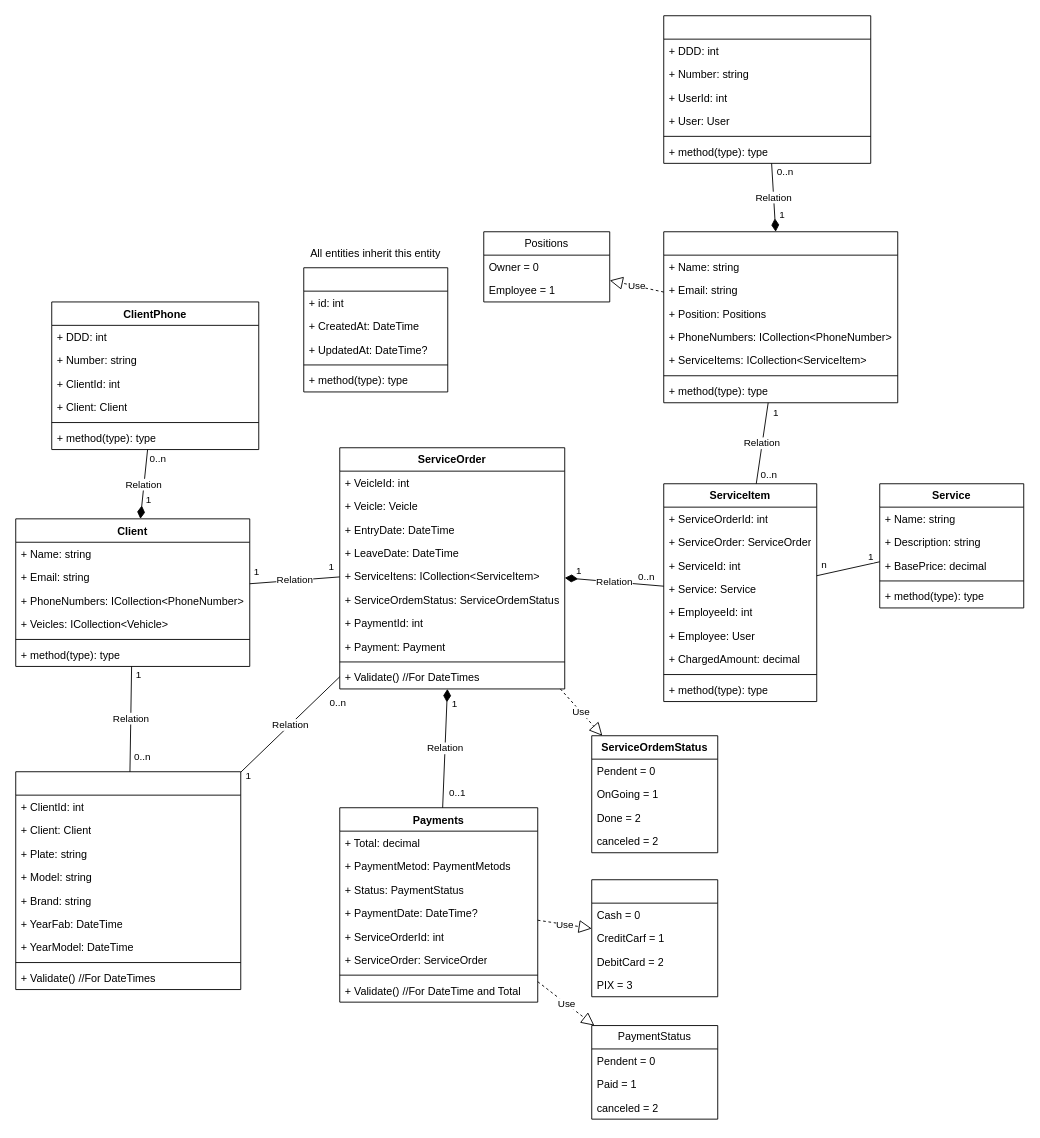
Image size: 1040x1138. Some labels were removed from this diagram. The box of each missing label's shape, as (x1, y1, x2, y2) in pixels:
BaseEntity: (303, 267, 448, 392)
PaymentMetods: (591, 879, 718, 997)
User: (663, 231, 898, 403)
UserPhone: (663, 15, 871, 163)
Vehicle: (15, 771, 241, 990)
